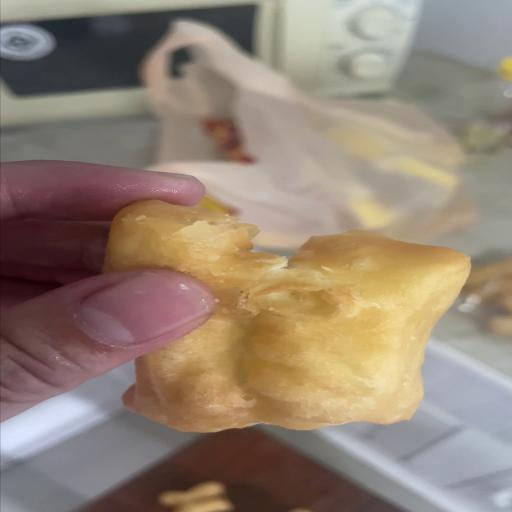street_golden_defect: (104, 201, 470, 432)
